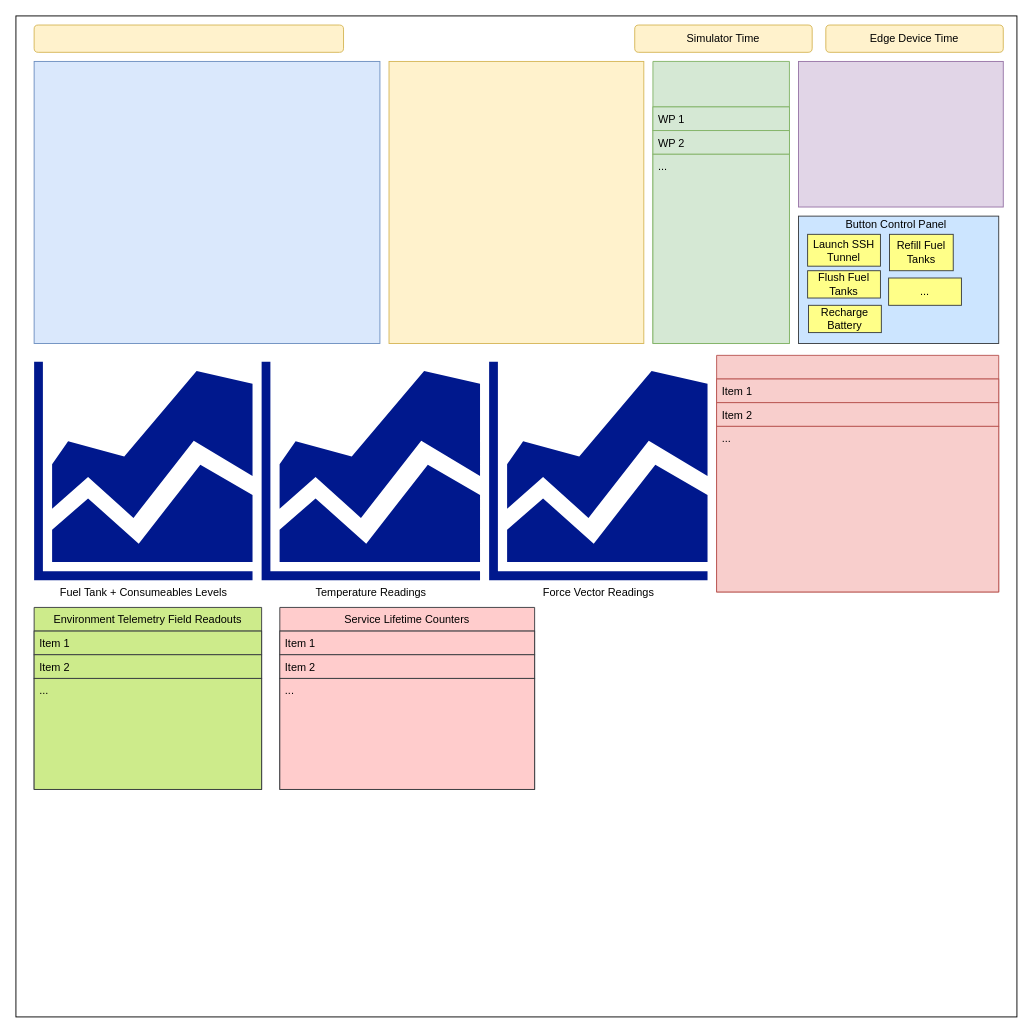
Image size: 1033x1033. Some labels were removed from this diagram. The box of each missing label's shape, as (x1, y1, x2, y2) in pixels:
Engine(s) Telemetry Field Readouts: (716, 354, 999, 592)
Flight Plan Control Panel Add waypoints Delete existing waypoints: (798, 61, 1003, 207)
FlightPlan Waypoint List getFlightPlan Service: (652, 61, 789, 344)
Google/OSM Maps Flight Path ValueStream View Network availability overlay: (388, 61, 644, 344)
ImageProperty ValueStream Camera Feed: (33, 61, 380, 344)
TWX Edge Sim - [Plane Name] - Single Plane Mashup: (33, 24, 344, 52)
